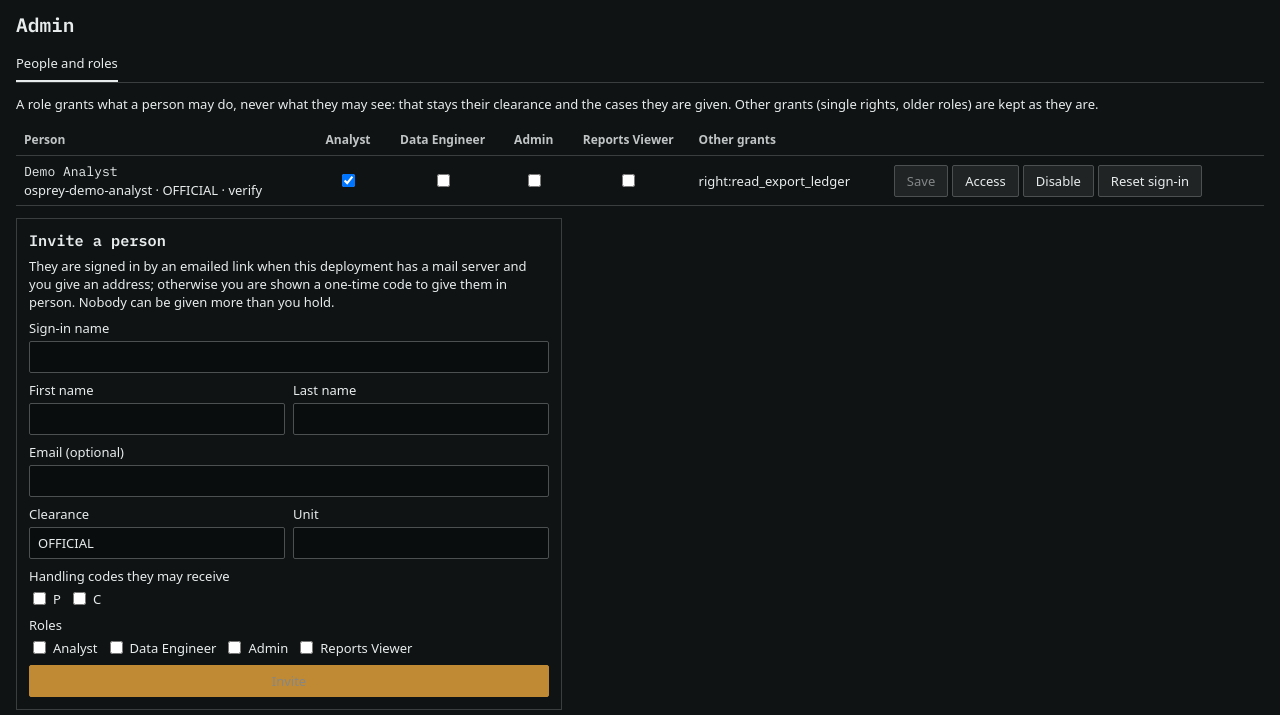
Scenario: people: invite, access, disable, enable, reset sign-in › says an emailed invitation went out, and shows no code
Expected: the text "Demo Analyst" is shown, [24,163,118,180]
In the field labelled "Sign-in name": (289, 357) [29,341,549,373], type "new.person"
In the field labelled "First name": (157, 419) [29,403,285,435], type "New"
In the field labelled "Last name": (421, 419) [293,403,549,435], type "Person"
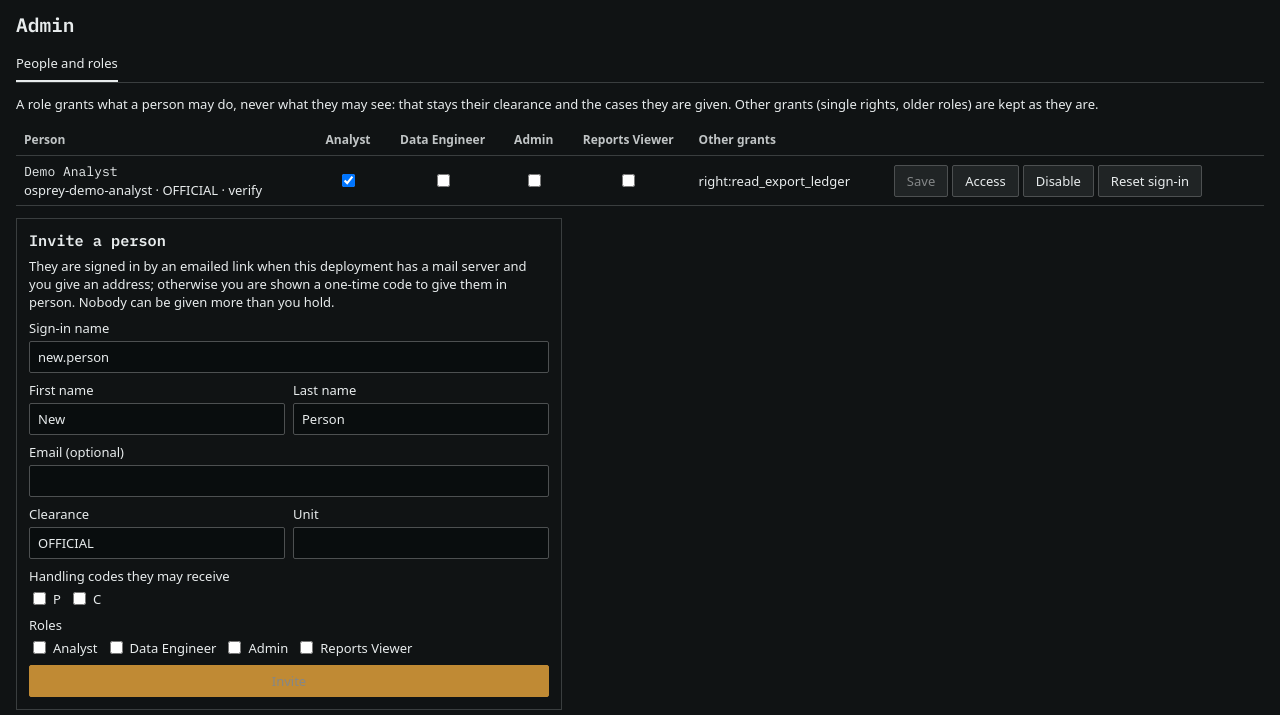
In the field labelled "Email (optional)": (289, 481) [29,465,549,497], type "new@example.org"
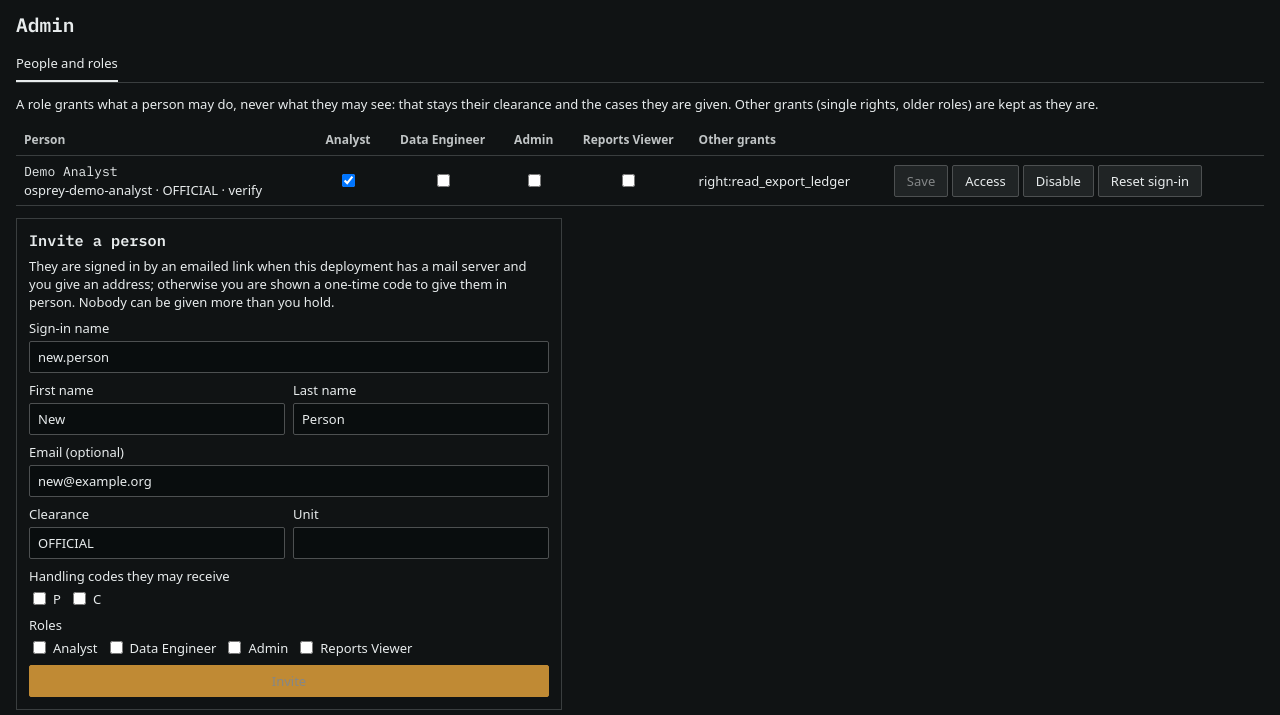
In the field named "Invite unit": (421, 543) [293,527,549,559], type "verify"
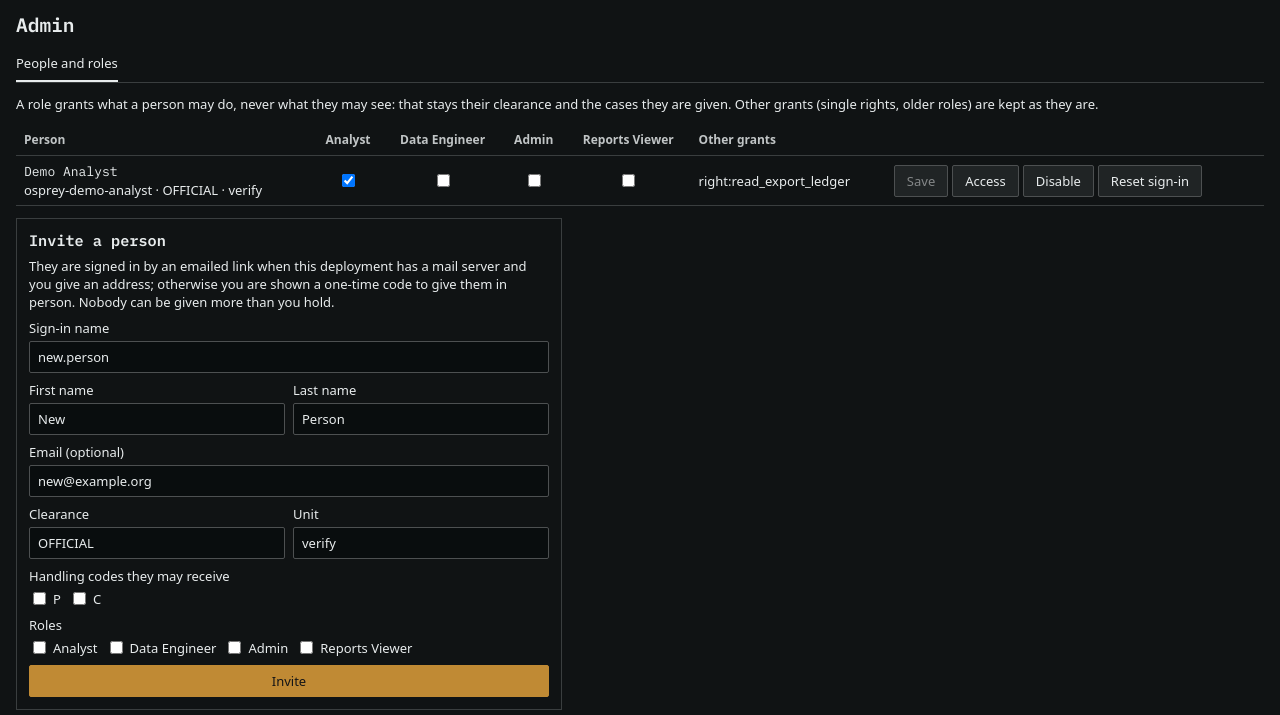
Click the checkbox named "Invite with handling code P": (40, 598) [33,592,46,605]
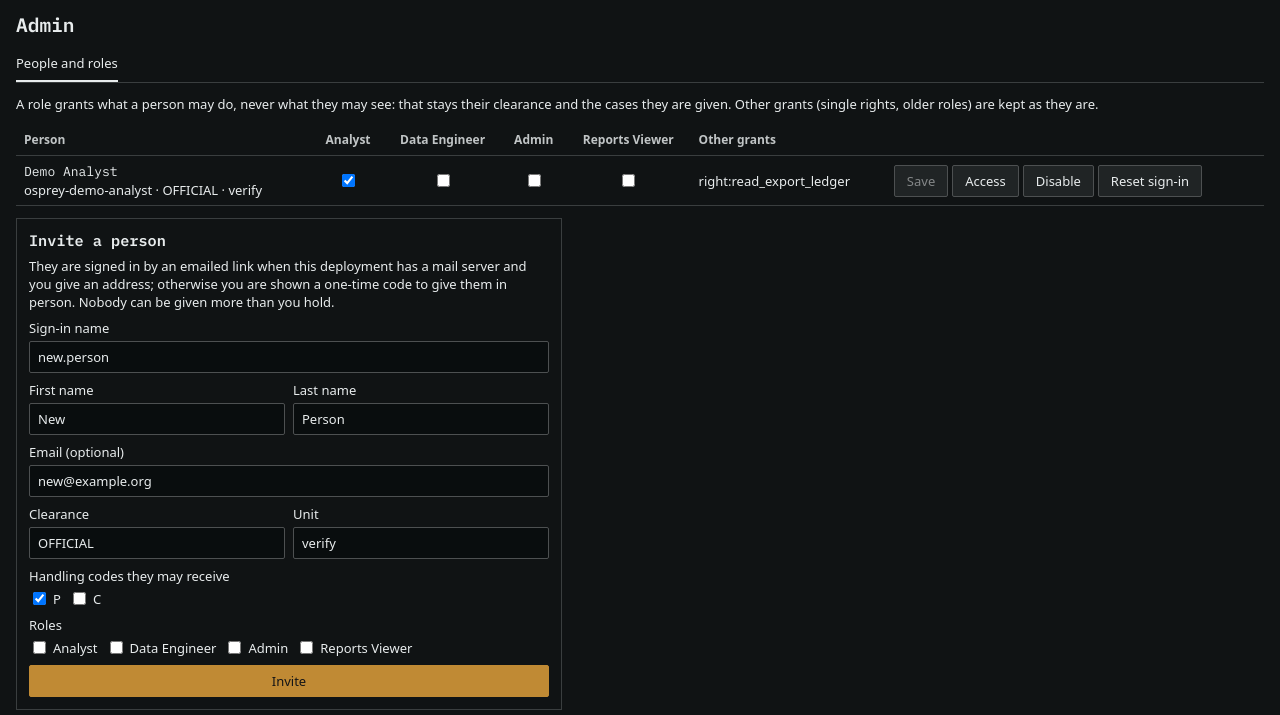
Click the checkbox named "Invite as Analyst": (40, 648) [33,641,46,654]
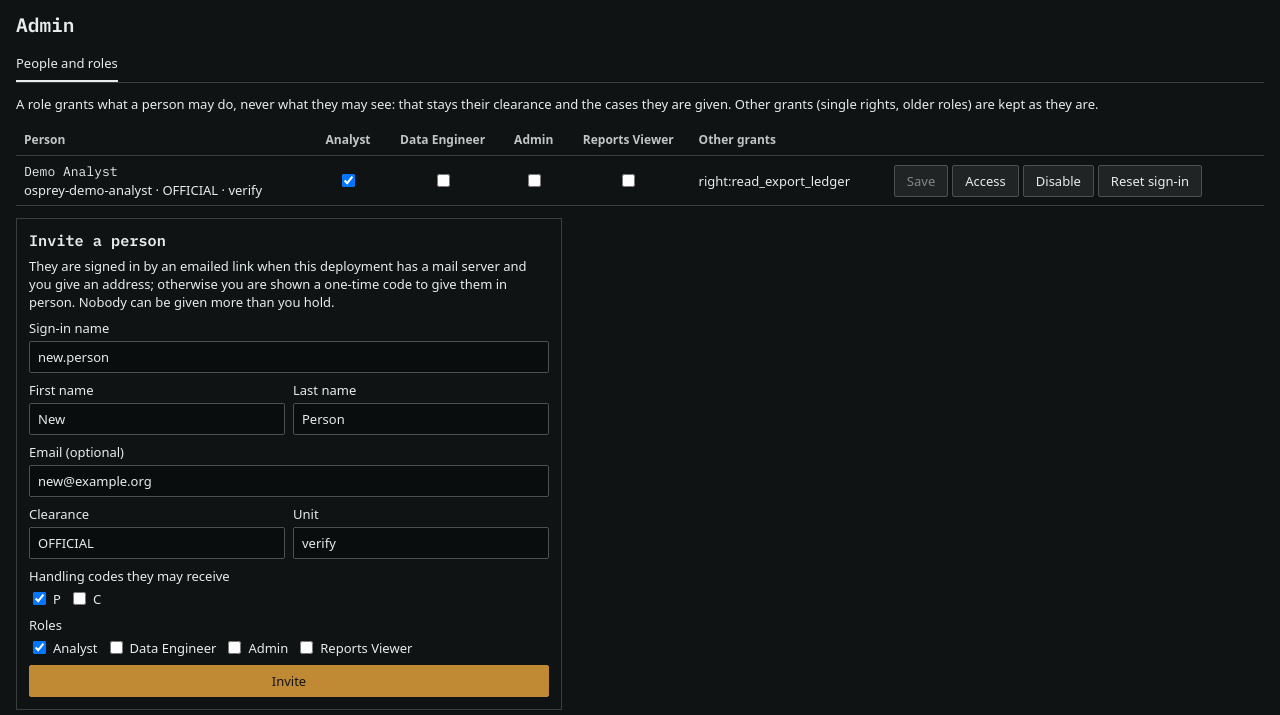
Click the button "Invite": (289, 681) [29,665,549,697]
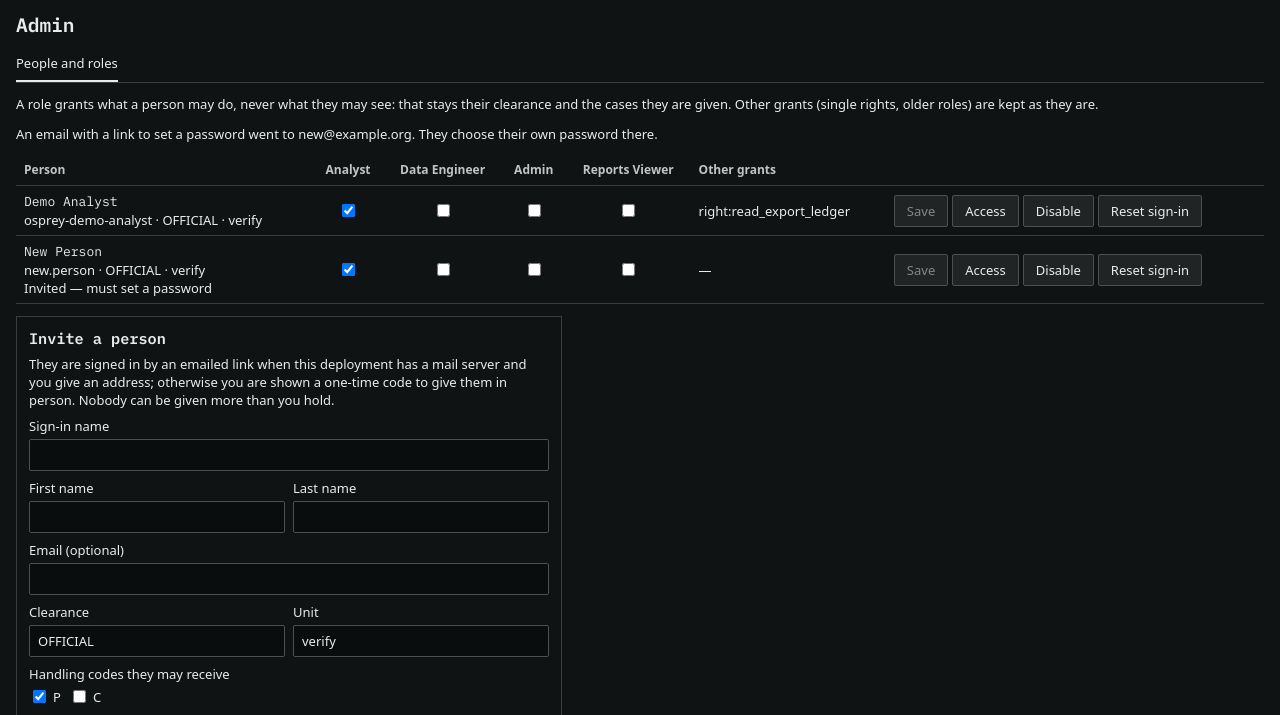
Now the text "An email with a link to set a password went to new@example.org" is shown, box [16,125,658,143]
